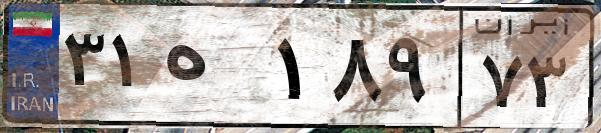1: (270, 28, 330, 110), (110, 28, 158, 98)
3: (57, 26, 110, 100), (525, 38, 570, 115)
7: (475, 38, 525, 113)
8: (330, 28, 385, 110)
9: (385, 28, 445, 110)
ه: (158, 20, 270, 120)
